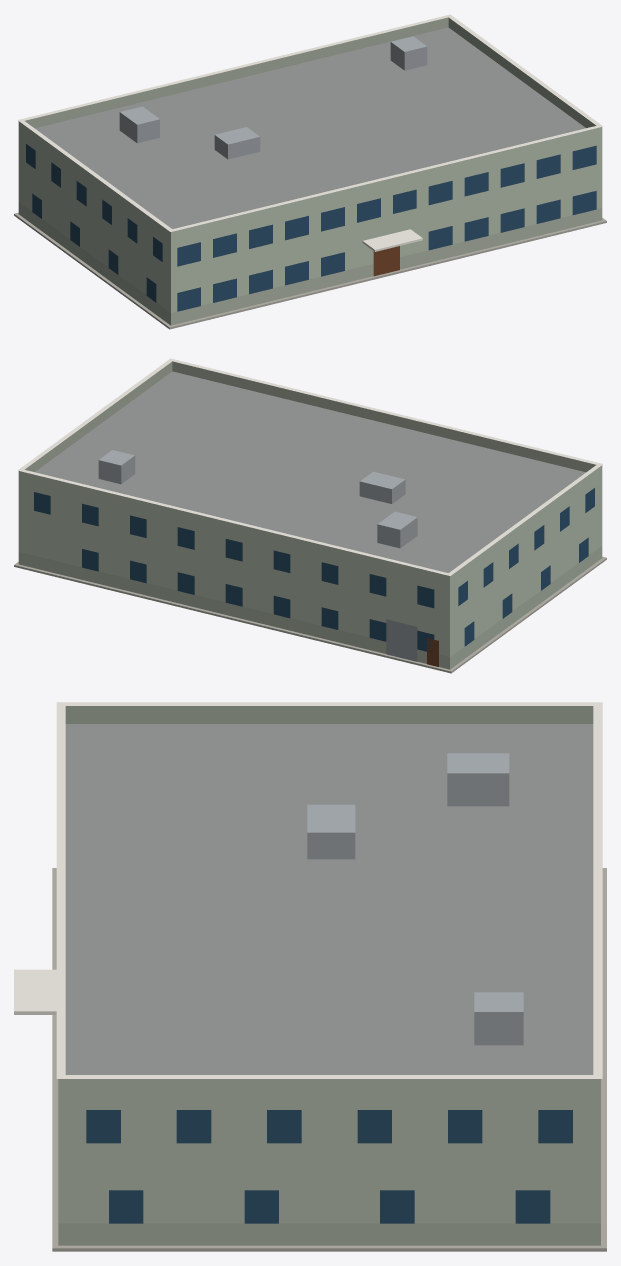
The model's file is office_36x22_2f_lod1.glb.
3 views of the same model, one above another, from view 1: azimuth 30°, elevation 25°; view 2: azimuth 150°, elevation 25°; view 3: azimuth 270°, elevation 25° (orthographic). The views are drawn at different scales.
Parts seen in each view (by area): view 1: block; view 2: block; view 3: block.
Part boxes in pixels (bbox=[...]): block: bbox=[14, 14, 606, 329]; block: bbox=[14, 358, 606, 673]; block: bbox=[14, 702, 606, 1251].
Bounding box in the file's own units: 36.5 × 8.34 × 24.05.
